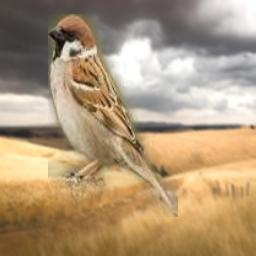Sparrow: (48, 14, 178, 217)
